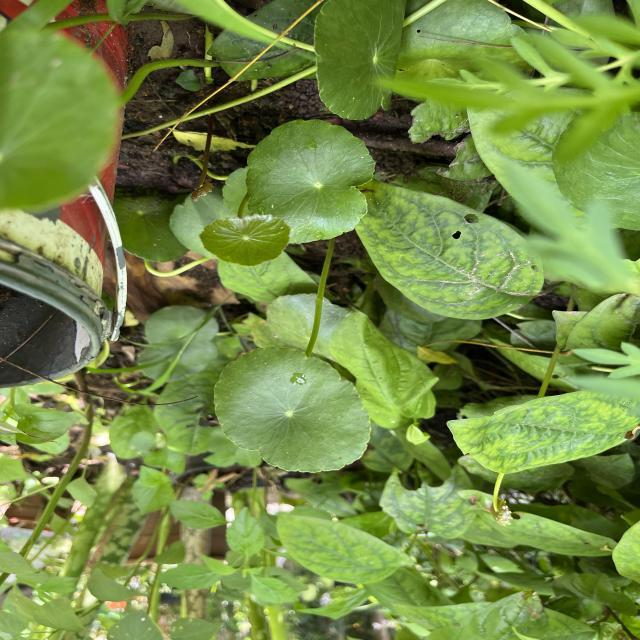Bacopa monnieri: (210, 344, 374, 476), (244, 116, 378, 246), (195, 210, 294, 270)
